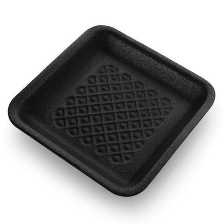foam_box: (3, 19, 220, 200)
